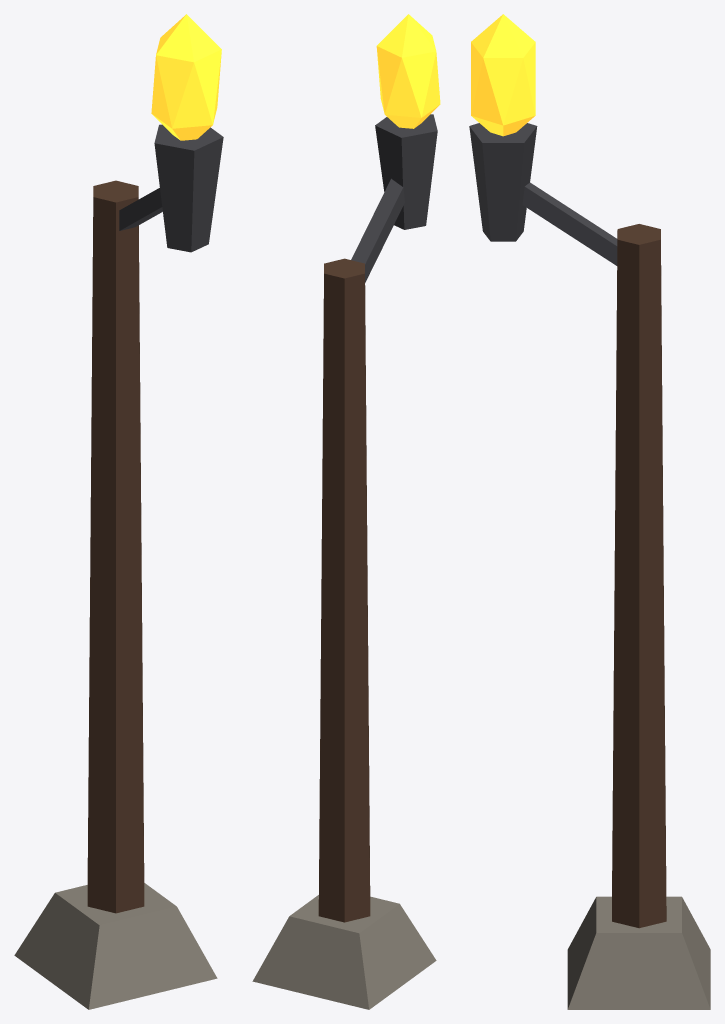
The model's file is Dorf_Fackelpfahl.fbx.
3 renders of one model, left to right at view 1: azimuth 30°, elevation 25°; view 2: azimuth 150°, elevation 25°; view 3: azimuth 270°, elevation 25°, orthographic. The views are drawn at different scales.
Parts seen in each view (by area): view 1: Dorf_Fackelpfahl; view 2: Dorf_Fackelpfahl; view 3: Dorf_Fackelpfahl.
Part boxes in pixels (bbox=[...]): Dorf_Fackelpfahl: bbox=[14, 14, 223, 1009]; Dorf_Fackelpfahl: bbox=[252, 14, 440, 1009]; Dorf_Fackelpfahl: bbox=[469, 14, 710, 1009].
Size of the model in its own units: 0.4 by 2.98 by 0.6751.
